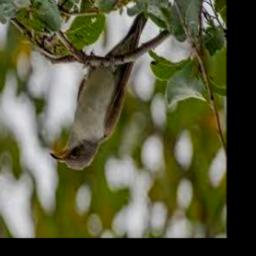Cuckoo: (50, 0, 165, 171)
